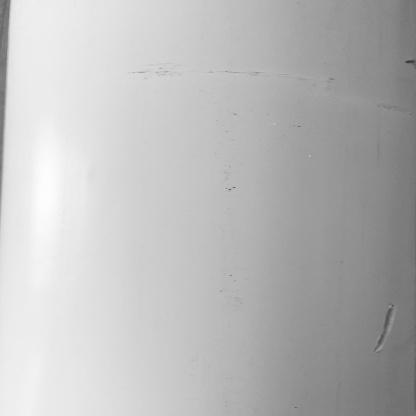sunshang: (371, 300, 407, 356)
